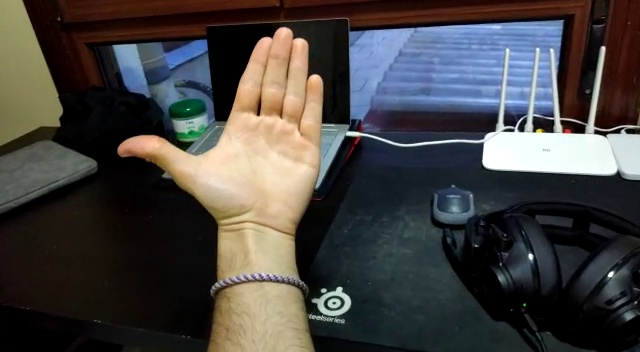Palm: (113, 25, 333, 252)
